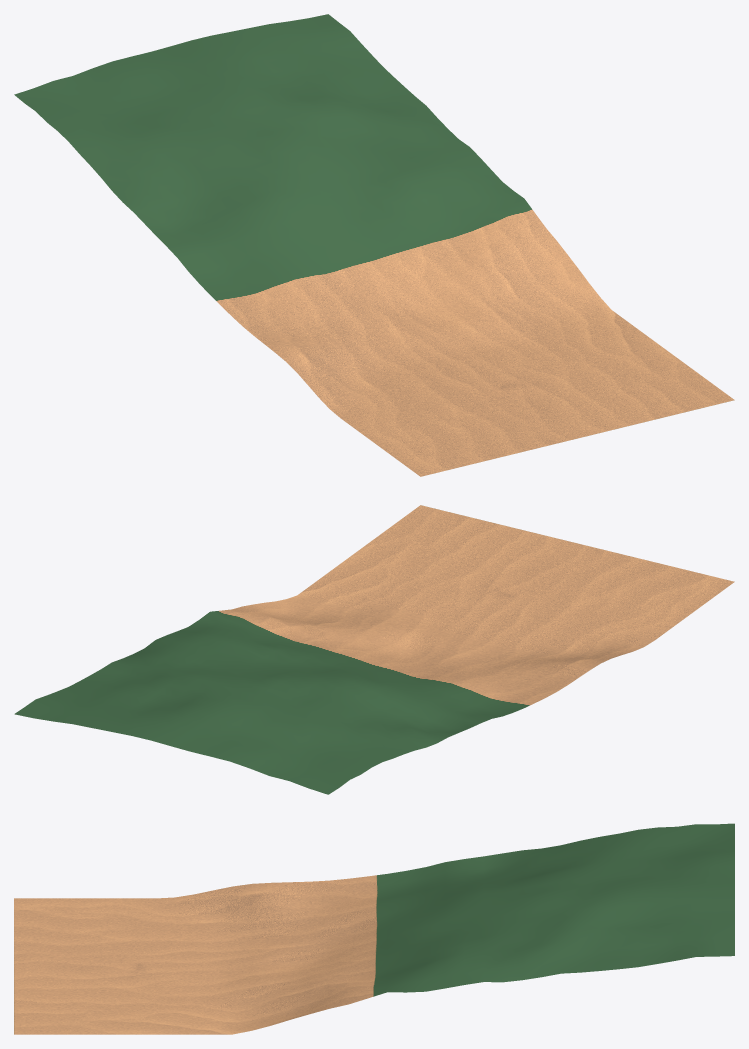
File: map_0_old3.gltf
3 renders of one model, top to bottom at view 1: azimuth 30°, elevation 25°; view 2: azimuth 150°, elevation 25°; view 3: azimuth 270°, elevation 25°, orthographic. The views are drawn at different scales.
Parts seen in each view (by area): view 1: landscape1; view 2: landscape1; view 3: landscape1.
Boxes of the visible parts, box(x1,y1,x2,y2) form: landscape1: box(14, 14, 734, 476); landscape1: box(14, 505, 734, 794); landscape1: box(14, 823, 734, 1034).
Size of the model in its own units: 9.38 by 2.72 by 21.
1 material, 1 textured.
